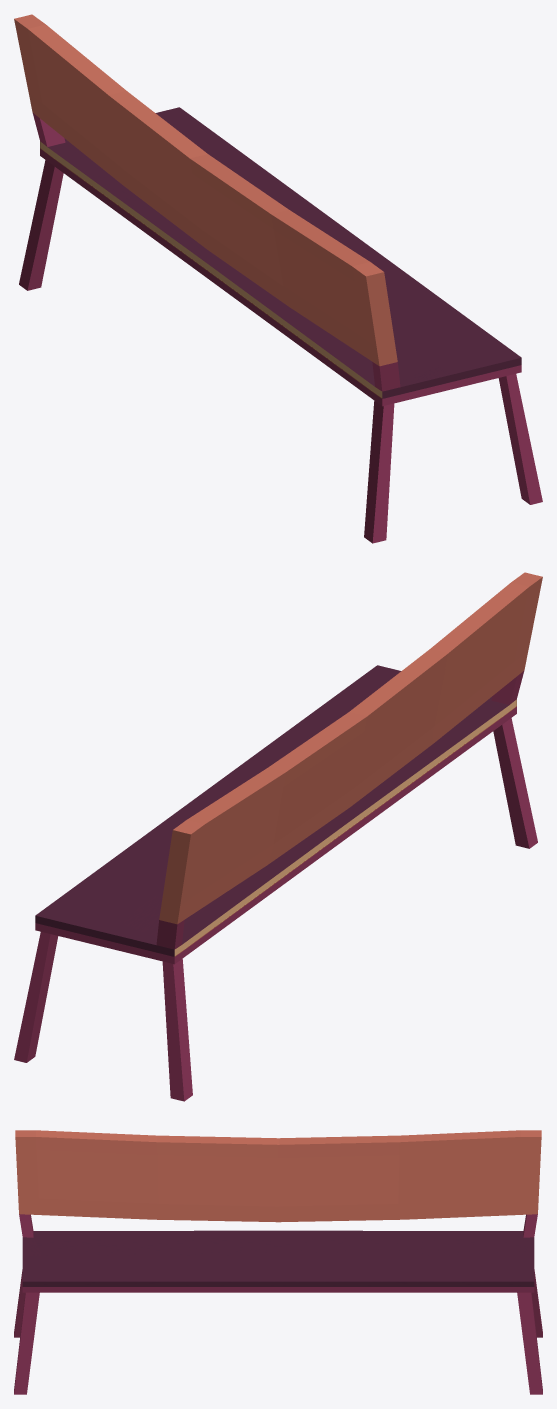
File: Bench.fbx
The picture shows the model from 3 angles, top to bottom: view 1: azimuth 30°, elevation 25°; view 2: azimuth 150°, elevation 25°; view 3: azimuth 270°, elevation 25°; orthographic projection. The views are drawn at different scales.
Parts seen in each view (by area): view 1: Bench; view 2: Bench; view 3: Bench.
Boxes of the visible parts, bbox=[...] form: Bench: bbox=[14, 14, 542, 543]; Bench: bbox=[14, 572, 542, 1101]; Bench: bbox=[14, 1130, 542, 1394].
Bounding box in the file's own units: 0.3697 × 0.5366 × 1.28.
